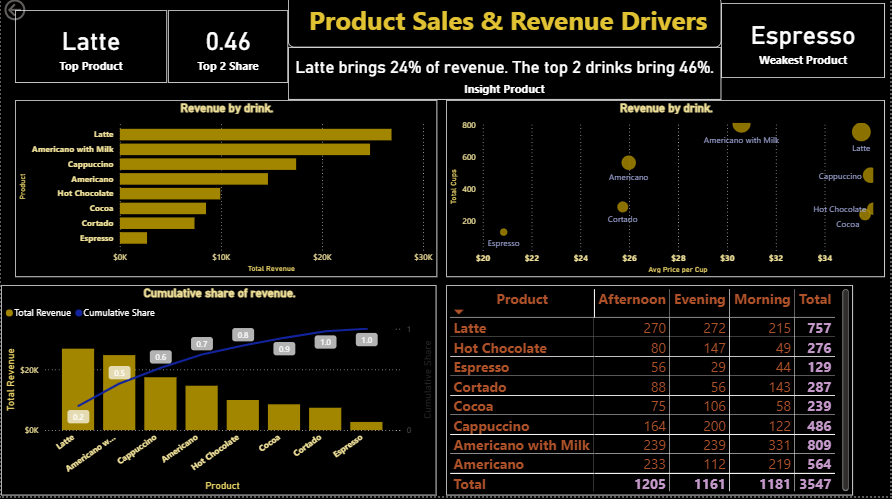

What the dashboard file says about the page in this screenshot:
{"tool":"powerbi","page":{"name":"Products","canvas":[1280,720],"ordinal":1},"visuals":[{"type":"barChart","title":"Revenue by drink.","fields":{"Category":["Product.Product"],"Y":["Measures (2).Total Revenue"]},"box":[20.2,149.8,607.7,254.9],"z":0},{"type":"actionButton","box":[0,0,100,40],"z":1000},{"type":"lineClusteredColumnComboChart","title":"Cumulative share of revenue.","fields":{"Category":["Product.Product"],"Y":["Measures (2).Total Revenue"],"Y2":["Calendar.Cumulative Share"]},"box":[0,416.4,627.1,303.3],"z":2000},{"type":"scatterChart","title":"Revenue by drink.","fields":{"Category":["Product.Product"],"Size":["Measures (2).Total Revenue"],"X":["Calendar.Avg Price per Cup"],"Y":["Measures (2).Total Cups"]},"box":[640.9,149.1,632.3,255.3],"z":3000},{"type":"card","fields":{"Values":["Calendar.Top Product"]},"box":[20.6,20.6,219.3,104.5],"z":4000},{"type":"card","fields":{"Values":["Calendar.Top 2 Share"]},"box":[239.9,20.6,173.1,104.5],"z":5000},{"type":"card","fields":{"Values":["Calendar.Weakest Product"]},"box":[1036.7,10.3,236.5,108],"z":6000},{"type":"card","fields":{"Values":["Calendar.Insight Product"]},"box":[413.3,73.4,623.5,76.3],"z":7000},{"type":"pivotTable","fields":{"Columns":["Sales.Day Part"],"Rows":["Product.Product"],"Values":["Measures (2).Total Cups"]},"box":[640.9,416.4,586,303.3],"z":8000},{"type":"textbox","box":[413,0,623.7,73.7],"z":9000}]}

Visuals, with their boxes in screenshot pixels (x1, y1, x2, y2), scaled from the page's 1280x720 canvas onto the 892x499 screenshot:
"Revenue by drink." barChart: select_region(14, 104, 438, 280)
actionButton: select_region(0, 0, 70, 28)
"Cumulative share of revenue." lineClusteredColumnComboChart: select_region(0, 289, 437, 498)
"Revenue by drink." scatterChart: select_region(447, 103, 887, 280)
card - Calendar.Top Product: select_region(14, 14, 167, 87)
card - Calendar.Top 2 Share: select_region(167, 14, 288, 87)
card - Calendar.Weakest Product: select_region(722, 7, 887, 82)
card - Calendar.Insight Product: select_region(288, 51, 723, 104)
pivotTable - Sales.Day Part x Product.Product: select_region(447, 289, 855, 498)
textbox: select_region(288, 0, 722, 51)
